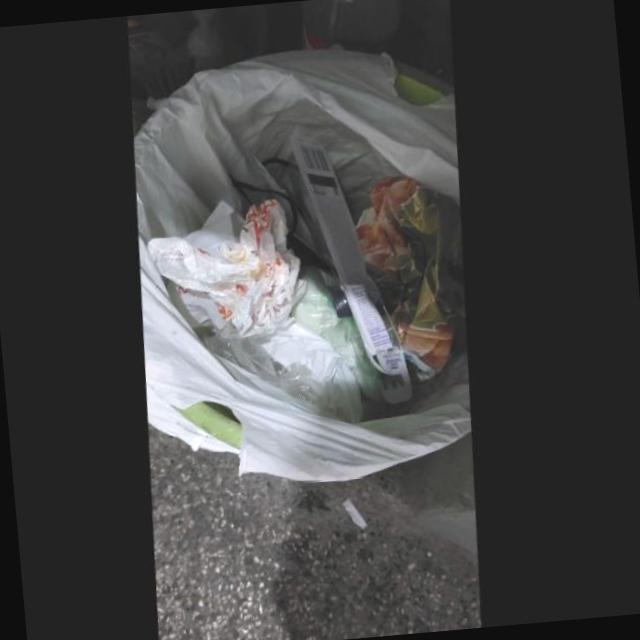carton: (298, 149, 415, 407)
giay: (358, 179, 470, 385), (148, 203, 308, 344), (264, 326, 366, 427)
